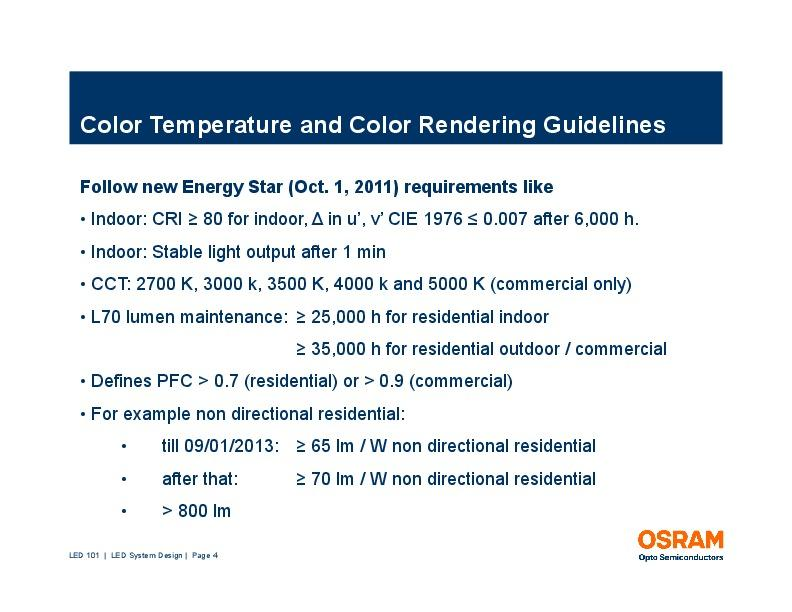paragraph: (69, 168, 702, 527)
title: (75, 105, 681, 144)
